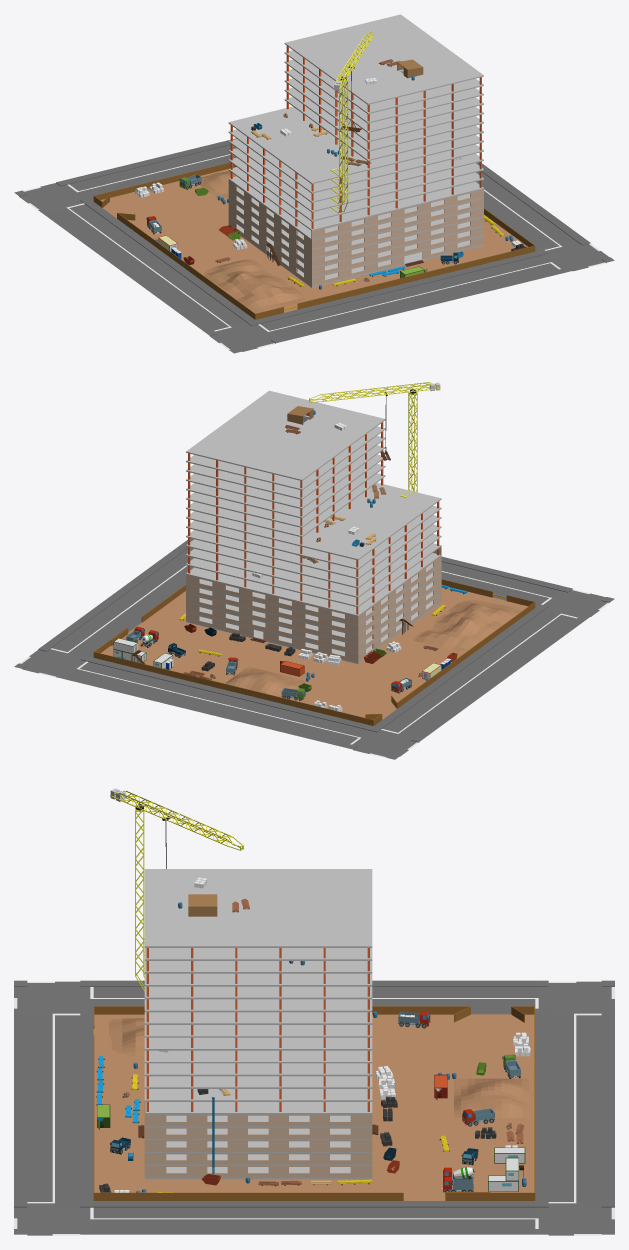
Rendered from HouseConstructionSite2.glb.
The picture shows the model from 3 angles, top to bottom: view 1: azimuth 30°, elevation 25°; view 2: azimuth 150°, elevation 25°; view 3: azimuth 270°, elevation 25°; orthographic projection. The views are drawn at different scales.
Visible parts, largest first — view 1: HouseConstructionSite, Roads; view 2: HouseConstructionSite, Roads; view 3: HouseConstructionSite, Roads.
Boxes of the visible parts, x1,y1,x2,y2 form: HouseConstructionSite: (93,14,535,319); Roads: (14,138,614,353); HouseConstructionSite: (93,382,535,725); Roads: (14,538,614,759); HouseConstructionSite: (93,788,535,1200); Roads: (14,980,614,1235).
Size of the model in its own units: 136 by 71.51 by 136.
2 materials, 2 textured.
